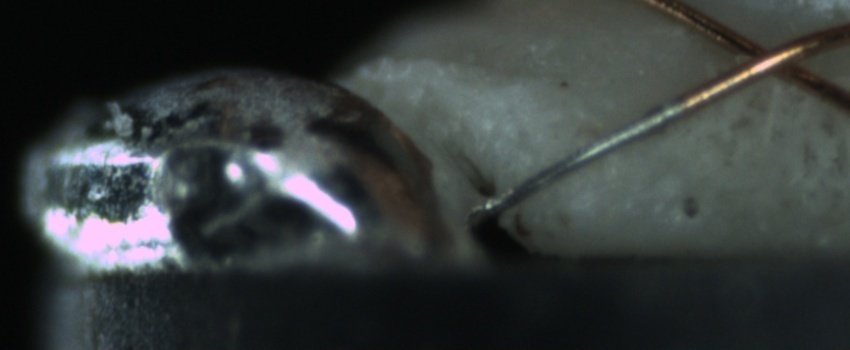CL: (717, 25, 825, 91)
TS: (487, 99, 686, 216)
